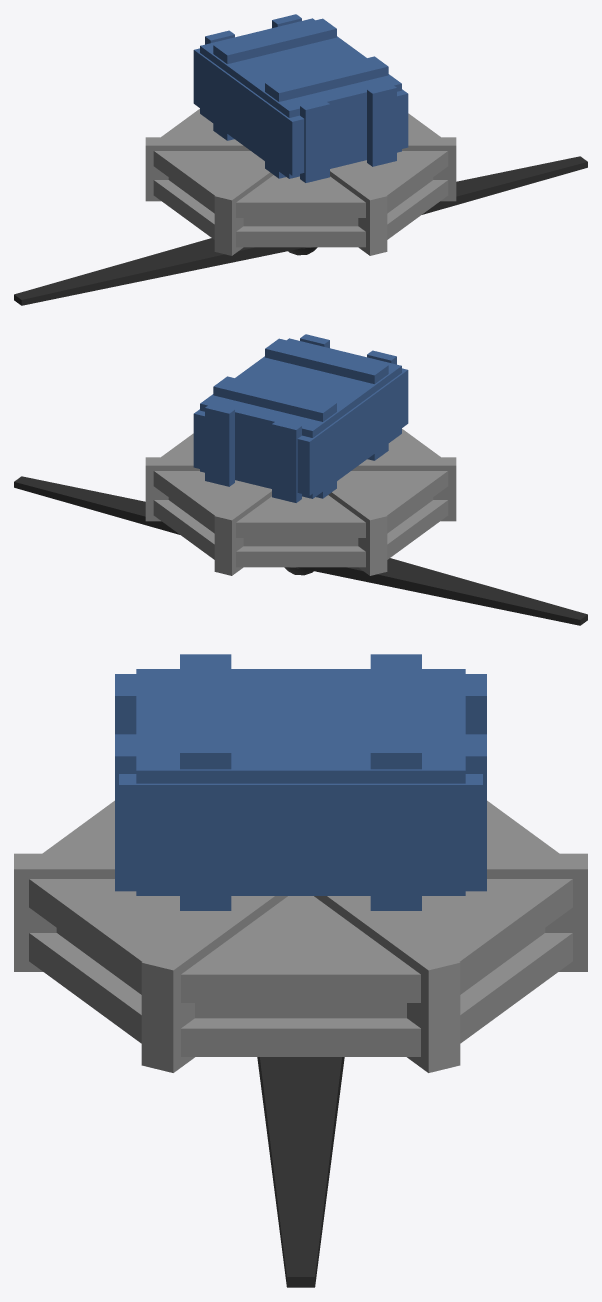
The model's file is CrateShield.fbx.
3 views of the same model, one above another, from view 1: azimuth 30°, elevation 25°; view 2: azimuth 150°, elevation 25°; view 3: azimuth 270°, elevation 25° (orthographic). The views are drawn at different scales.
Visible parts, largest first — view 1: Cube.016, Cube.026; view 2: Cube.016, Cube.026; view 3: Cube.016, Cube.026.
Boxes of the visible parts, <box> form: Cube.016: <box>145,14,456,255</box>; Cube.026: <box>14,156,587,305</box>; Cube.016: <box>145,334,456,575</box>; Cube.026: <box>14,476,587,625</box>; Cube.016: <box>14,654,587,1072</box>; Cube.026: <box>257,1057,344,1287</box>.
Bounding box in the file's own units: 427 × 143 × 203.
